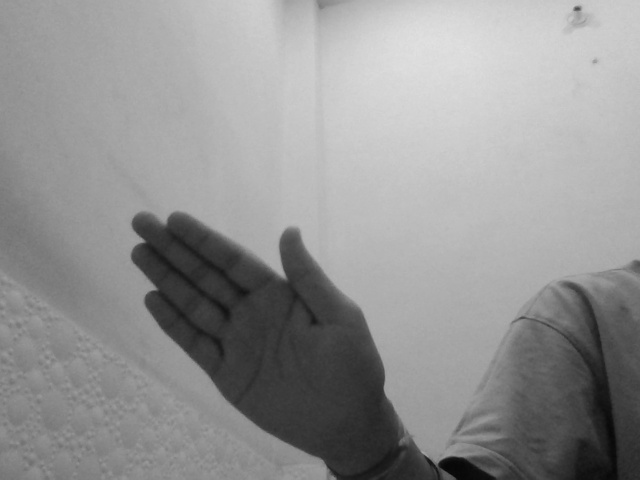Hello: (123, 204, 389, 457)
